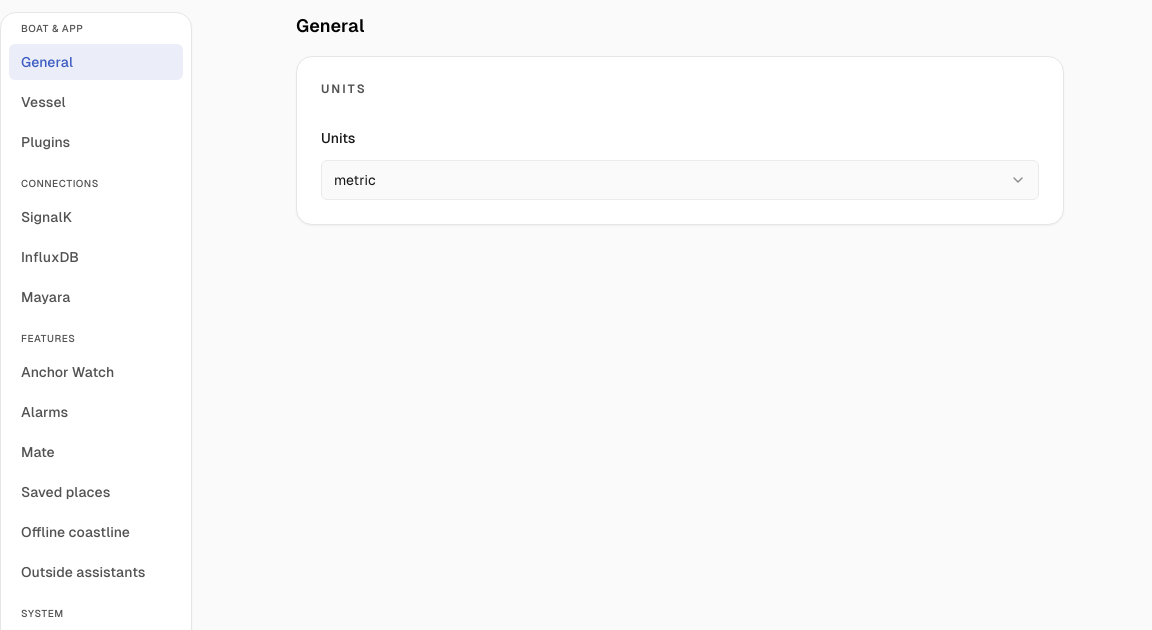
Settings Alarms section saving › surfaces a transport save failure instead of reporting success
This screenshot has width=1152, height=630.
What coordinates should you click on to do the following:
click the button "Alarms"
I would click on:
 (96, 412)
Its box is [9,394,183,430].
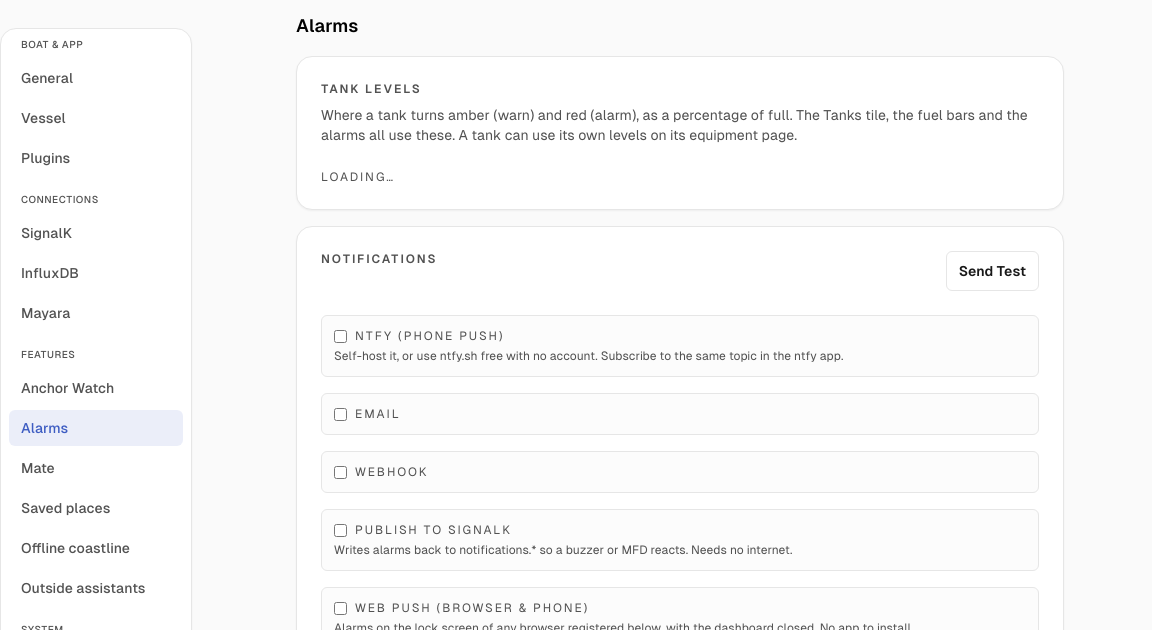
What coordinates should you click on to do the following:
click the checkbox labelled "Webhook"
I would click on:
 (340, 472)
Its box is [334,466,347,478].
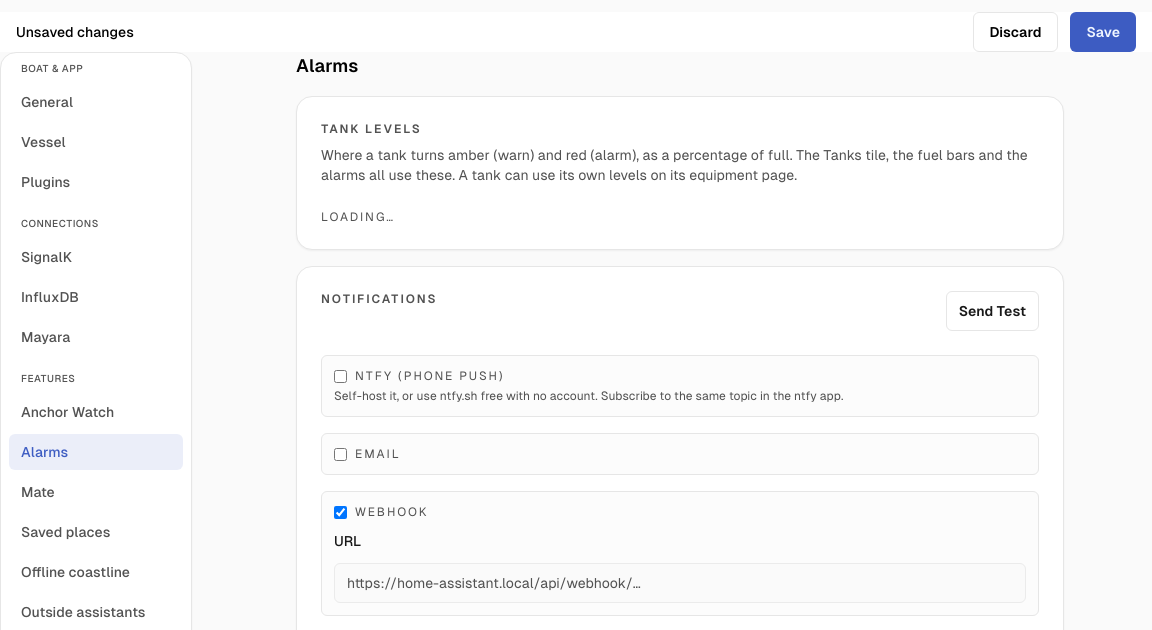
What coordinates should you click on to do the following:
click the button "Save"
I would click on:
 (1103, 32)
Its box is [1070,12,1136,52].
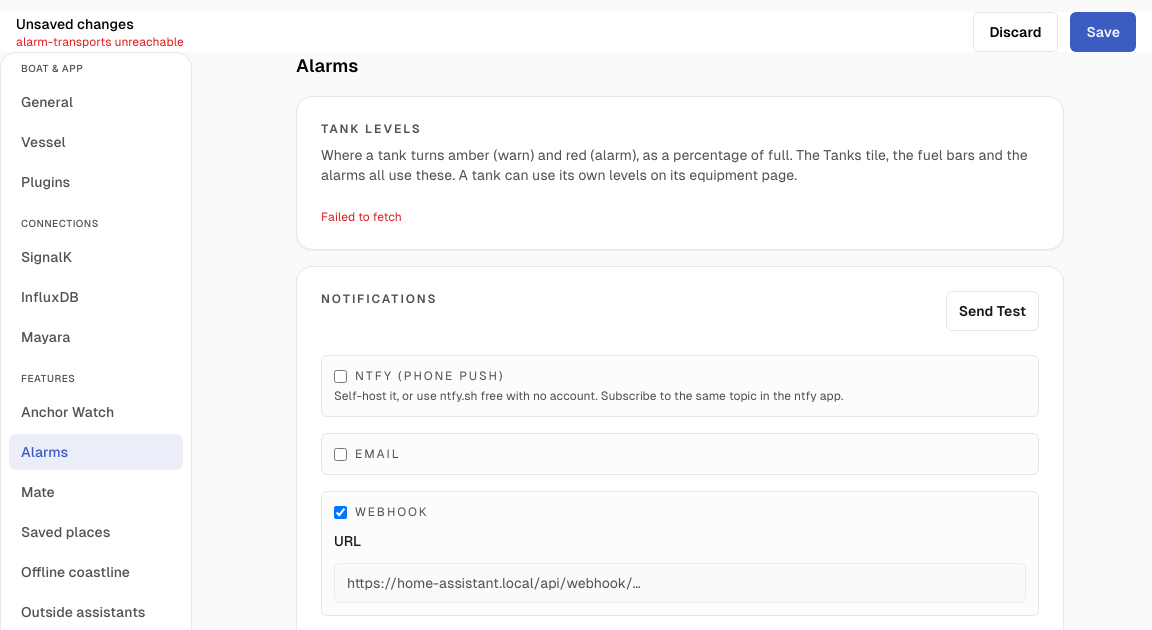
Check: the text "alarm-transports unreachable" is shown, box [16,35,184,49]
